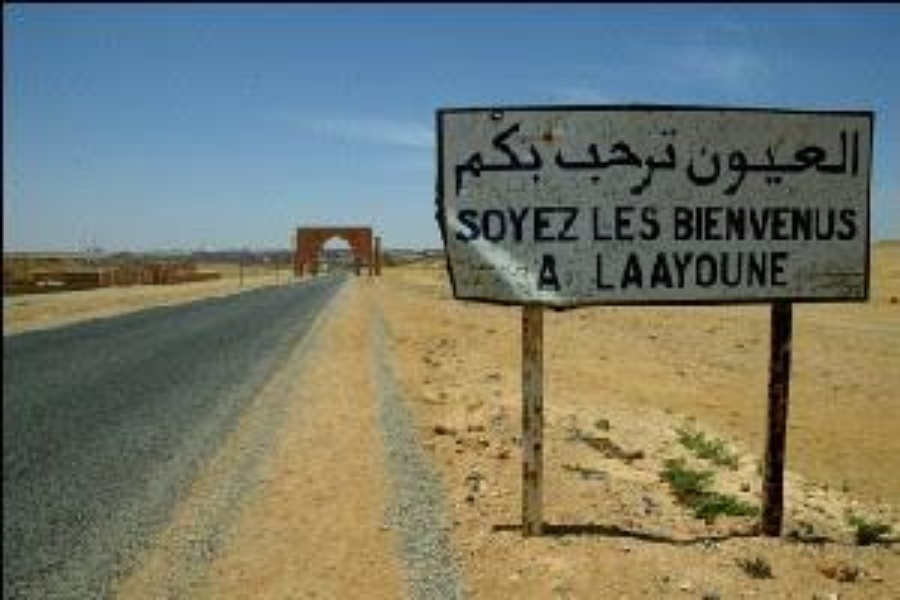text: (465, 121, 480, 196), (481, 121, 496, 196), (497, 121, 512, 196), (513, 121, 528, 196), (529, 121, 544, 196), (689, 127, 704, 199), (705, 127, 720, 199), (721, 127, 736, 199), (737, 127, 752, 199), (753, 127, 768, 199), (769, 127, 784, 199), (785, 127, 800, 199), (801, 127, 816, 199), (817, 127, 832, 199), (833, 127, 848, 199), (561, 127, 576, 199), (577, 127, 592, 199), (593, 127, 608, 199), (609, 127, 624, 199), (625, 127, 640, 199), (641, 127, 656, 199), (657, 127, 672, 199), (673, 127, 688, 199), (849, 127, 862, 199), (453, 121, 464, 196), (550, 127, 560, 199), (609, 246, 624, 292), (625, 246, 640, 292), (641, 246, 656, 292), (657, 246, 672, 292), (673, 246, 688, 292), (689, 246, 704, 292), (705, 246, 720, 292), (721, 246, 736, 292), (737, 246, 752, 292), (753, 246, 768, 292), (769, 246, 784, 292), (545, 253, 560, 295), (545, 121, 553, 196), (595, 246, 608, 292), (465, 205, 480, 244), (481, 205, 496, 244), (497, 205, 512, 244), (513, 205, 528, 244), (529, 205, 544, 244), (545, 205, 560, 244), (561, 205, 576, 244), (593, 202, 608, 241), (609, 202, 624, 241), (625, 202, 640, 241), (641, 202, 656, 241), (673, 205, 688, 241), (689, 205, 704, 241), (705, 205, 720, 241), (721, 205, 736, 241), (737, 205, 752, 241), (753, 205, 768, 241), (769, 205, 784, 241), (785, 205, 800, 241), (801, 205, 816, 241), (817, 205, 832, 241), (833, 205, 848, 241), (453, 205, 464, 244), (785, 246, 793, 292), (849, 205, 859, 241), (657, 202, 664, 241), (577, 205, 583, 244), (685, 127, 688, 199), (561, 253, 565, 295), (689, 127, 691, 199), (541, 253, 544, 295), (589, 202, 592, 241)
